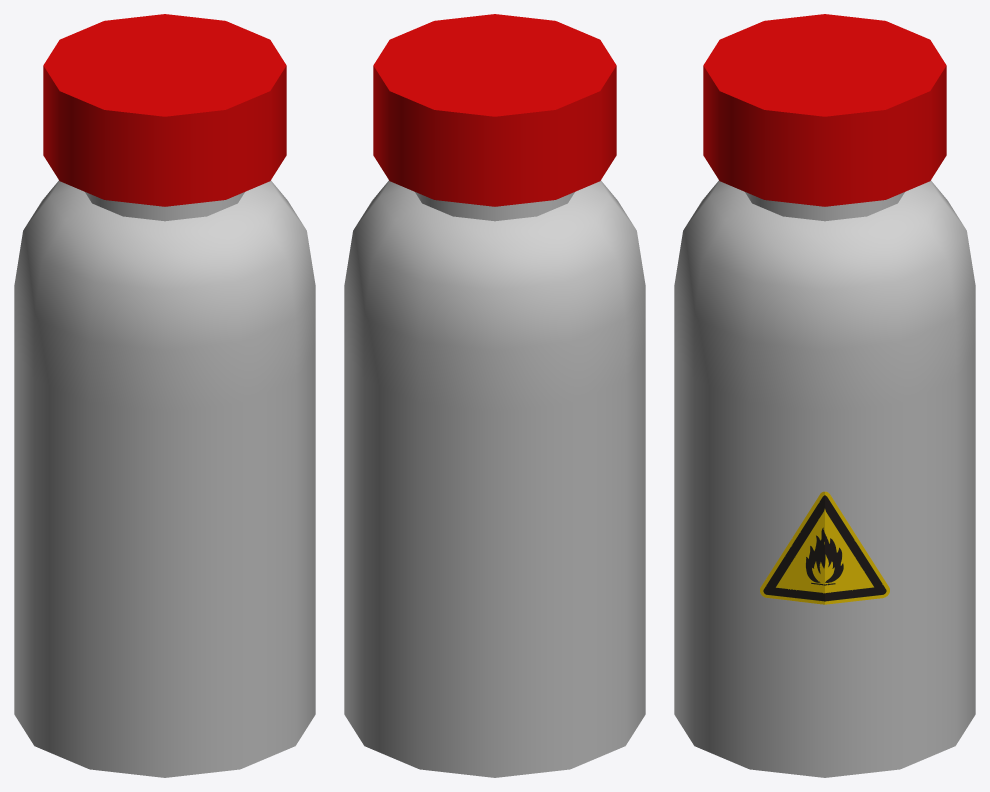
The model's file is BottleSticker.fbx.
The picture shows the model from 3 angles, left to right: view 1: azimuth 30°, elevation 25°; view 2: azimuth 150°, elevation 25°; view 3: azimuth 270°, elevation 25°; orthographic projection.
Parts seen in each view (by area): view 1: PlasticBottle03; view 2: PlasticBottle03; view 3: PlasticBottle03, pngwing.com.
Boxes of the visible parts, <box> form: PlasticBottle03: <box>14,14,315,777</box>; PlasticBottle03: <box>344,14,645,777</box>; PlasticBottle03: <box>674,14,975,777</box>; pngwing.com: <box>760,491,889,604</box>.
Size of the model in its own units: 5.42 by 12.83 by 5.41.
